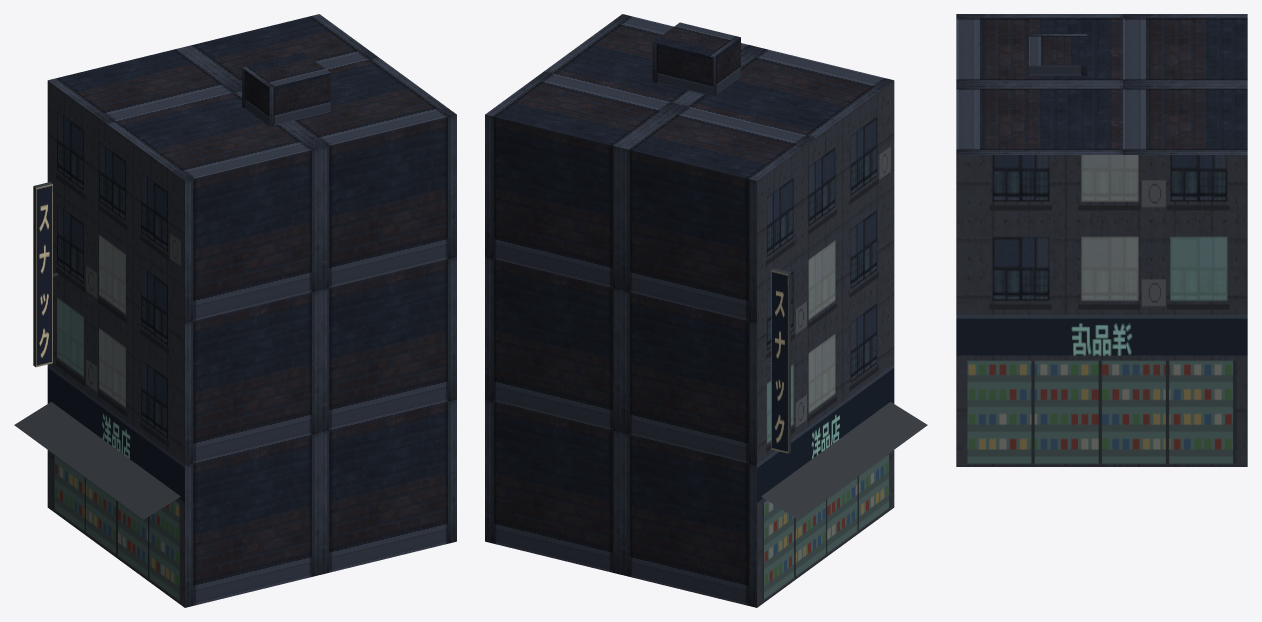
File: street_shop_0.glb
3 renders of one model, left to right at view 1: azimuth 30°, elevation 25°; view 2: azimuth 150°, elevation 25°; view 3: azimuth 270°, elevation 25°, orthographic. The views are drawn at different scales.
Visible parts, largest first — view 1: street_shop_0; view 2: street_shop_0; view 3: street_shop_0.
Boxes of the visible parts, x1,y1,x2,y2 form: street_shop_0: [14, 14, 456, 607]; street_shop_0: [485, 14, 927, 607]; street_shop_0: [956, 14, 1247, 466].
Size of the model in its own units: 9.1 by 13.1 by 7.
4 materials, 4 textured.
